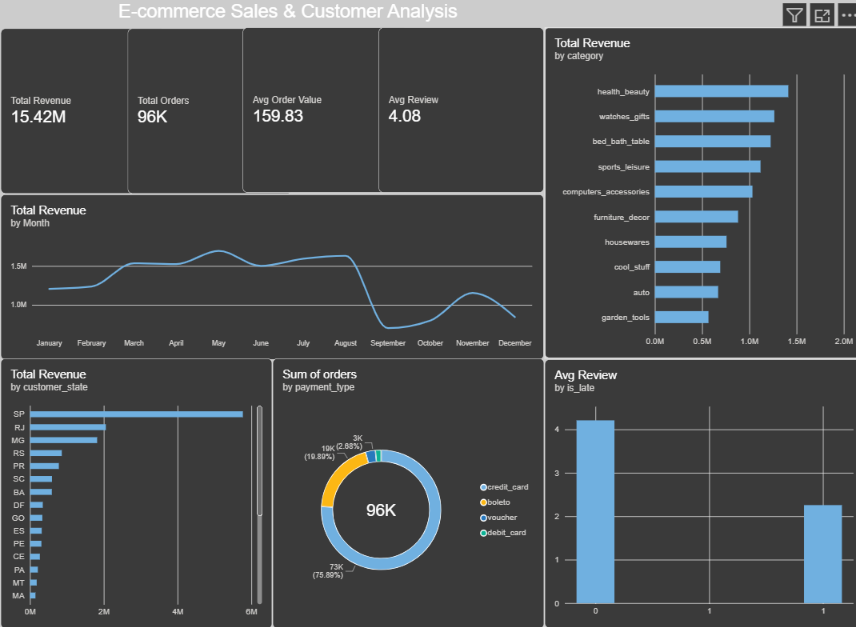

The page's visual inventory and layout, read from the dashboard file:
{"tool":"powerbi","page":{"name":"Sales Overview","canvas":[1920,1080],"ordinal":0},"visuals":[{"type":"textbox","box":[370.5,16.5,848,543.4],"z":2},{"type":"cardVisual","fields":{"Data":["master_orders.Total Revenue"]},"box":[270,65,280,280],"z":3},{"type":"cardVisual","fields":{"Data":["master_orders.Total Orders"]},"box":[485,65,280,280],"z":4},{"type":"cardVisual","fields":{"Data":["master_orders.Avg Order Value"]},"box":[680,62.5,280,280],"z":5},{"type":"cardVisual","fields":{"Data":["master_orders.Avg Review"]},"box":[910,62.5,280,280],"z":6},{"type":"lineChart","fields":{"Category":["master_orders.order_month.Variation.Date Hierarchy.Month"],"Y":["master_orders.Total Revenue"]},"box":[270,345,920,280],"z":7},{"type":"clusteredBarChart","fields":{"Category":["master_orders.category"],"Y":["master_orders.Total Revenue"]},"box":[1190,62.5,540,560],"z":8},{"type":"clusteredBarChart","fields":{"Category":["master_orders.customer_state"],"Y":["master_orders.Total Revenue"]},"box":[270,622.5,460,457.5],"z":9},{"type":"donutChart","fields":{"Category":["q7_payment_methods.payment_type"],"Y":["Sum(q7_payment_methods.orders)"]},"box":[730,622.5,460,457.5],"z":10},{"type":"clusteredColumnChart","fields":{"Category":["master_orders.is_late"],"Y":["master_orders.Avg Review"]},"box":[1190,625,540,455],"z":11}]}

Visuals, with their boxes on the page's 1920x1080 design canvas (x1, y1, x2, y2). These are canvas units, not pixel positions in the 856x628 screenshot, which may show the page scaled, cropped or inside an application window:
textbox: bbox(370, 16, 1218, 560)
cardVisual - master_orders.Total Revenue: bbox(270, 65, 550, 345)
cardVisual - master_orders.Total Orders: bbox(485, 65, 765, 345)
cardVisual - master_orders.Avg Order Value: bbox(680, 62, 960, 342)
cardVisual - master_orders.Avg Review: bbox(910, 62, 1190, 342)
lineChart - master_orders.order_month.Variation.Date Hierarchy.Month x master_orders.Total Revenue: bbox(270, 345, 1190, 625)
clusteredBarChart - master_orders.category x master_orders.Total Revenue: bbox(1190, 62, 1730, 622)
clusteredBarChart - master_orders.customer_state x master_orders.Total Revenue: bbox(270, 622, 730, 1080)
donutChart - q7_payment_methods.payment_type x Sum(q7_payment_methods.orders): bbox(730, 622, 1190, 1080)
clusteredColumnChart - master_orders.is_late x master_orders.Avg Review: bbox(1190, 625, 1730, 1080)
